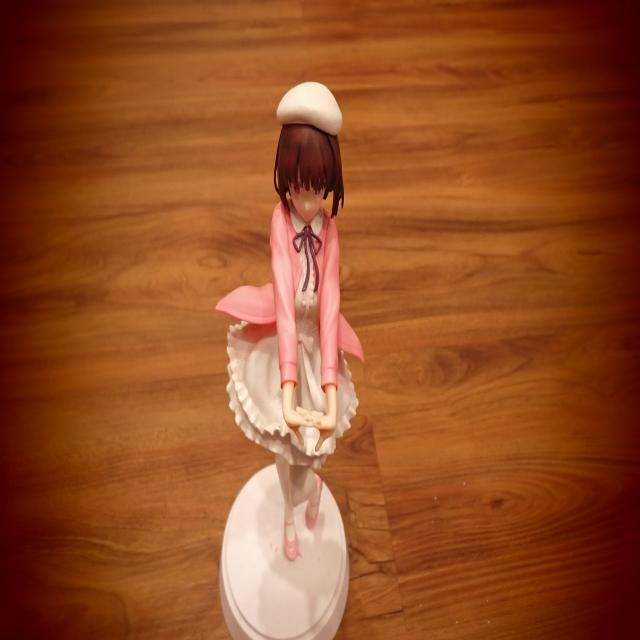My-pink-anime-figure: (217, 83, 363, 559)
